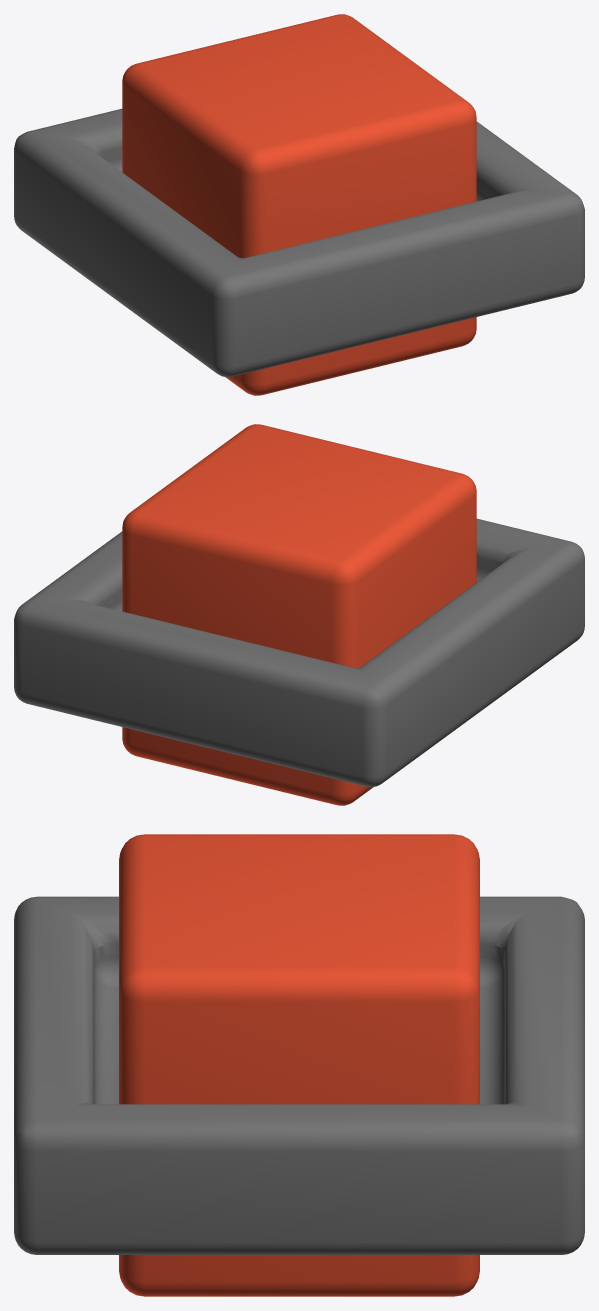
The model's file is Button.glb.
3 renders of one model, top to bottom at view 1: azimuth 30°, elevation 25°; view 2: azimuth 150°, elevation 25°; view 3: azimuth 270°, elevation 25°, orthographic. The views are drawn at different scales.
Visible parts, largest first — view 1: Cube.003; view 2: Cube.003; view 3: Cube.003.
Part boxes in pixels (<box>): Cube.003: <box>14,14,584,395</box>; Cube.003: <box>14,424,584,805</box>; Cube.003: <box>14,834,584,1296</box>.
Size of the model in its own units: 0.222 by 0.1404 by 0.222.
